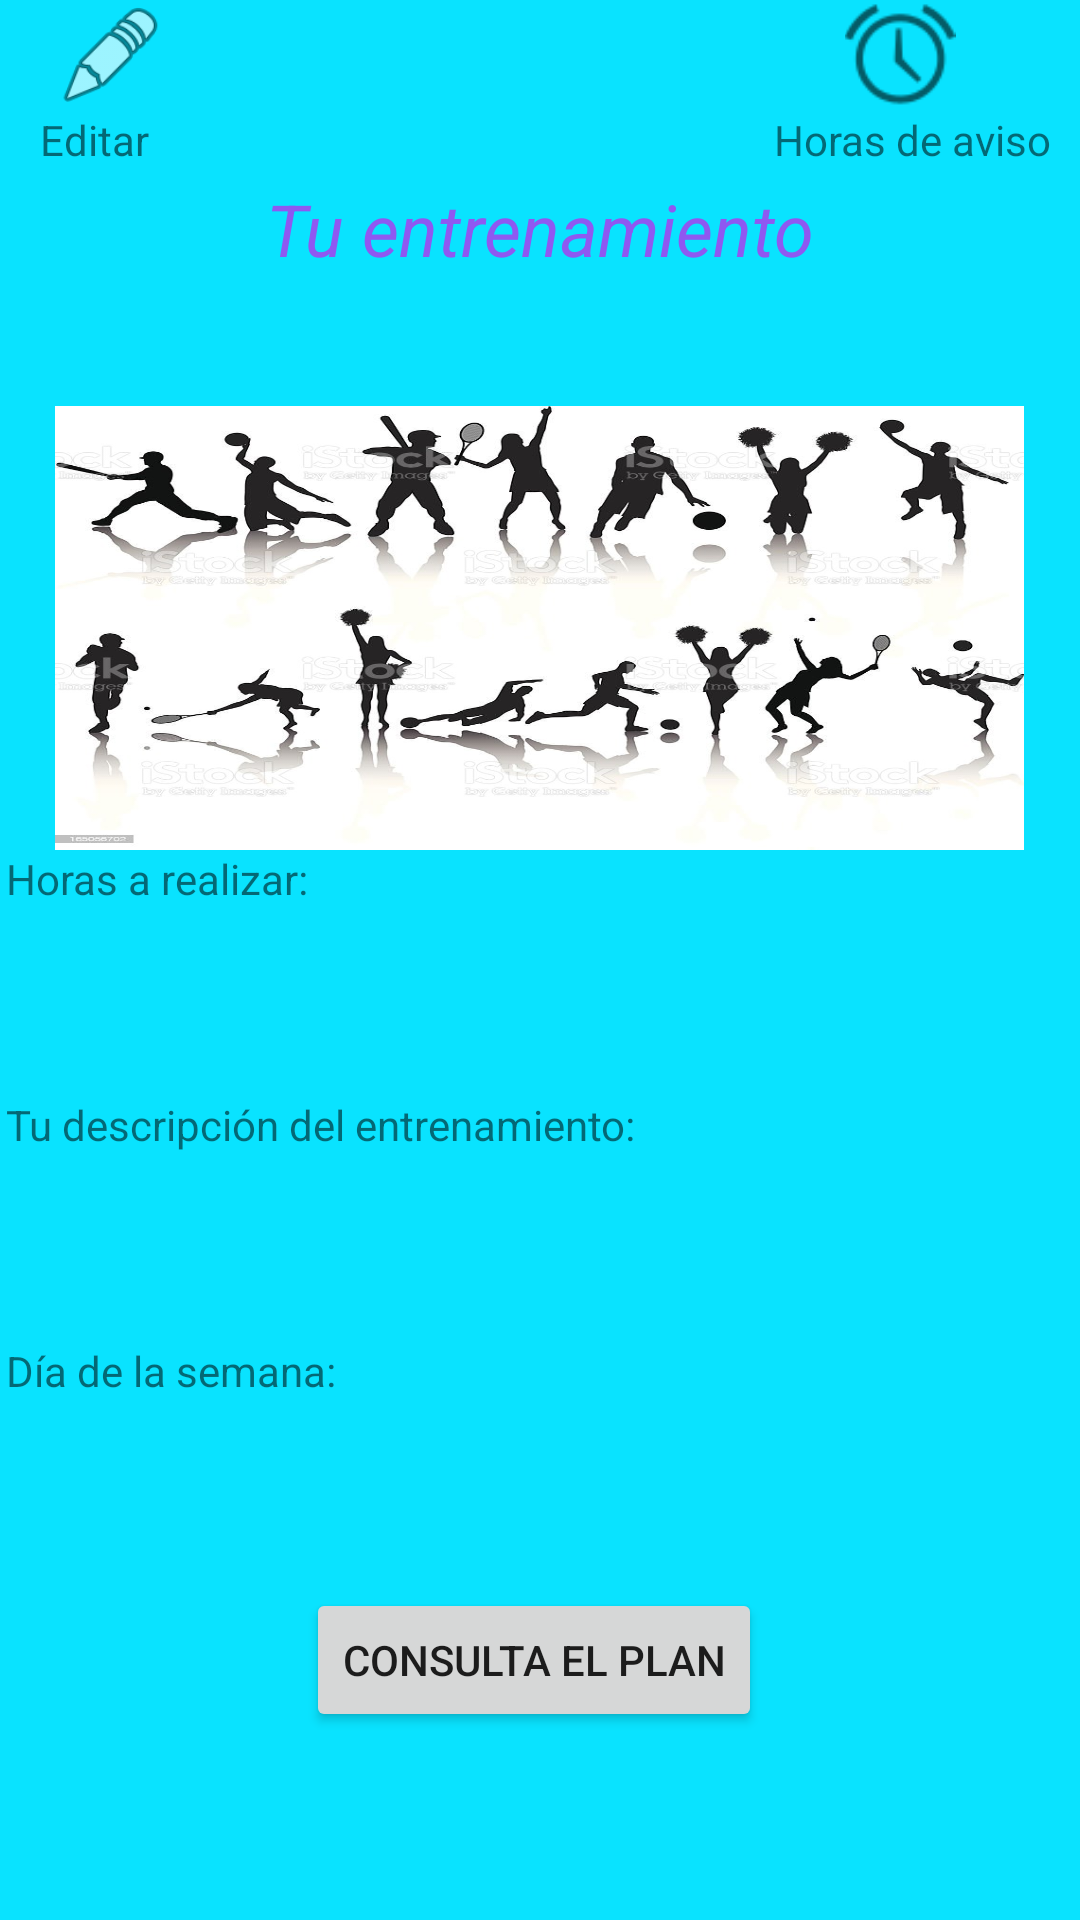

Icons on this 1080px x 1920px Android screen, each with its box as (x1, y1, x2, y2):
lock idle alarm: (845, 4, 956, 105)
